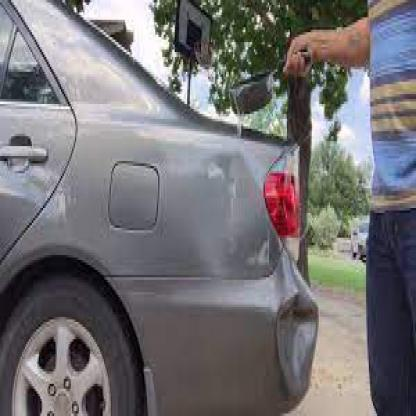dent: (272, 277, 315, 401)
